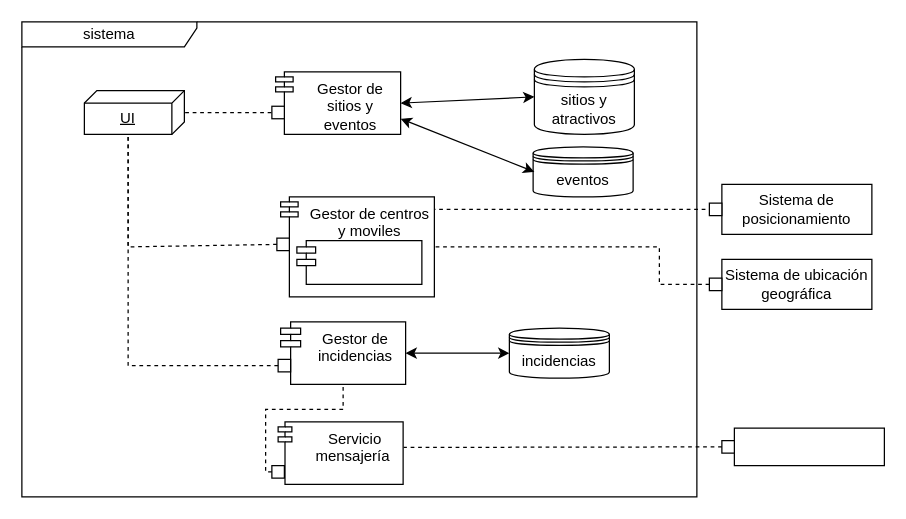
Some shapes in this 906 by 519 pixel diagram are drawn without their labels. Each missing label, with the centre of its shape:
Actualización de centros: point 359,261
Sistema de correo: point 808,446
